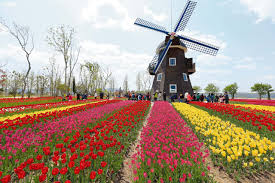flower: (4, 98, 274, 182)
tree: (13, 24, 37, 98), (50, 22, 74, 96), (84, 61, 101, 99)
